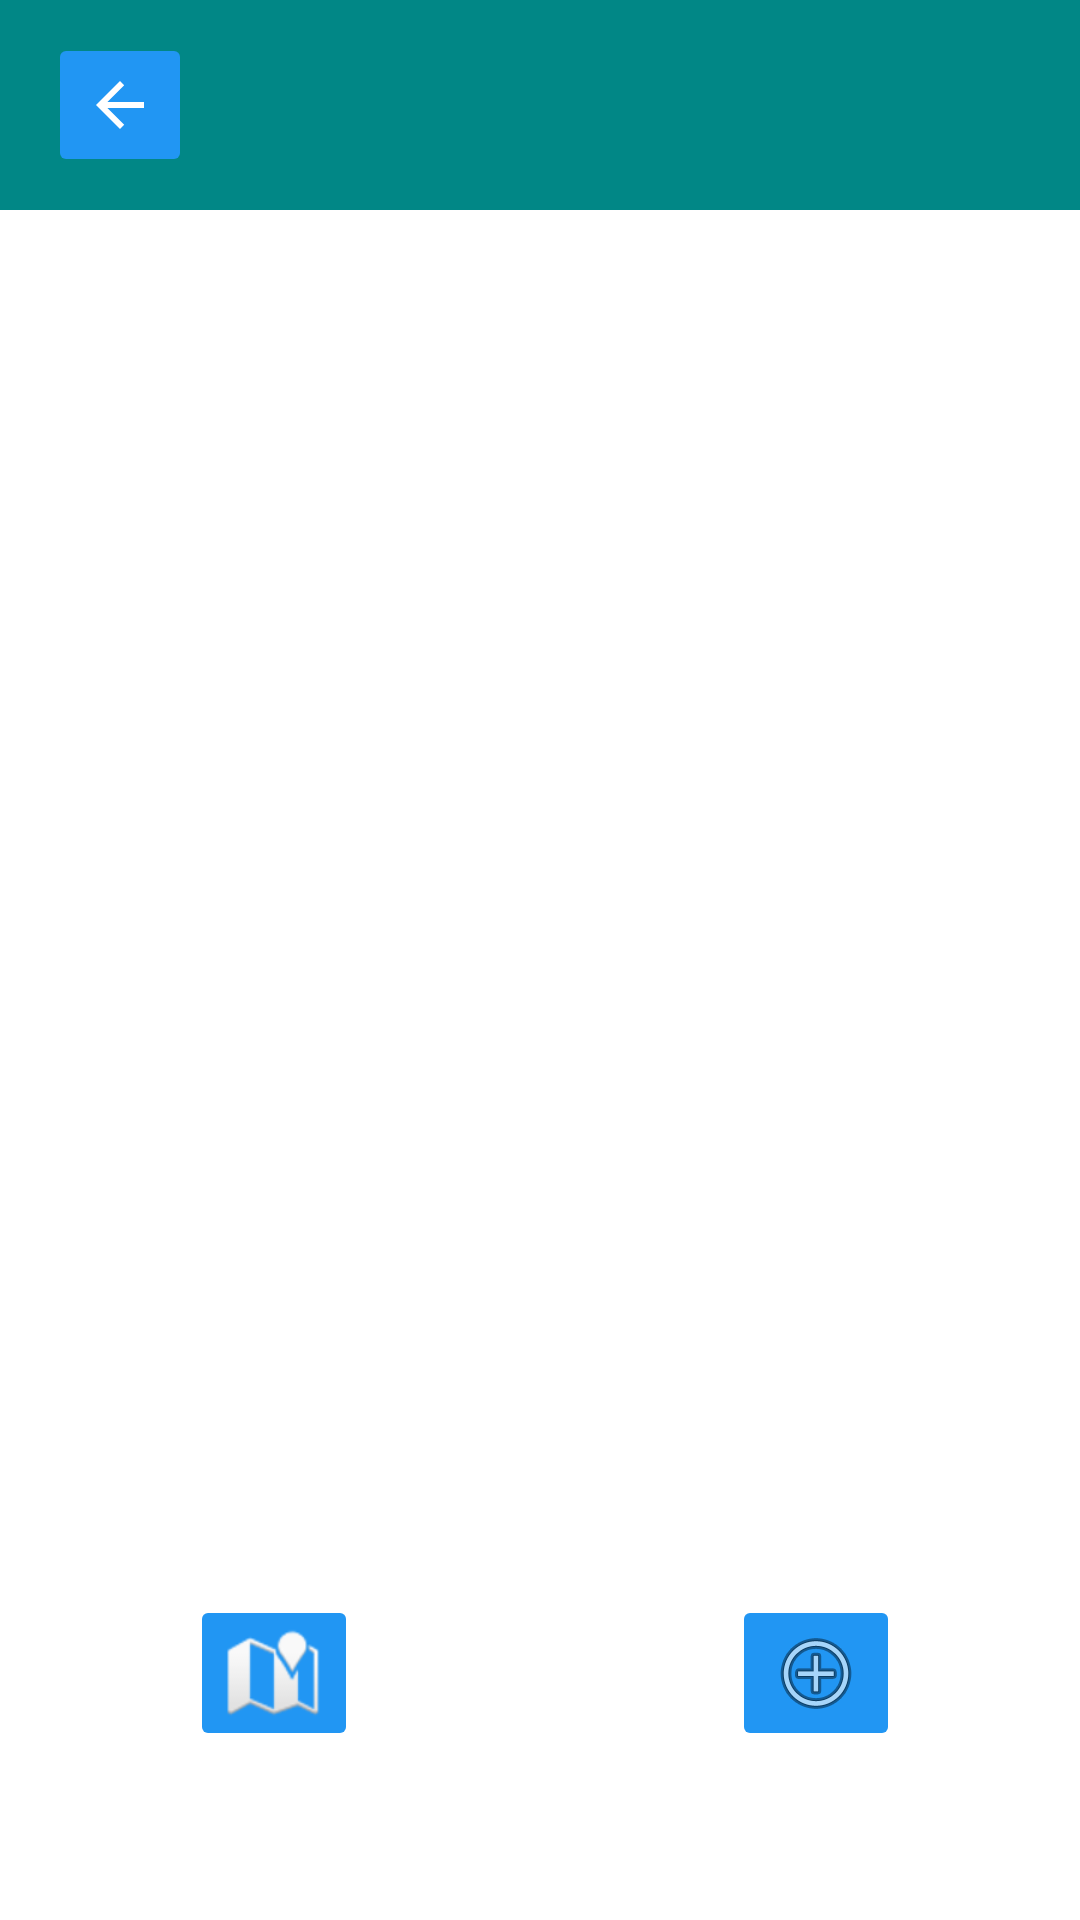

Where icons sit on this 1080w x 1920h app screen, as (x1, y1, x2, y2):
add: (744, 1613, 888, 1733)
map: (202, 1613, 346, 1733)
